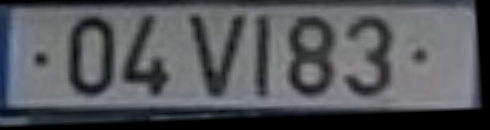0: (65, 15, 121, 99)
3: (342, 12, 399, 102)
4: (122, 12, 174, 99)
8: (285, 12, 342, 101)
I: (253, 15, 279, 102)
V: (187, 12, 253, 102)
